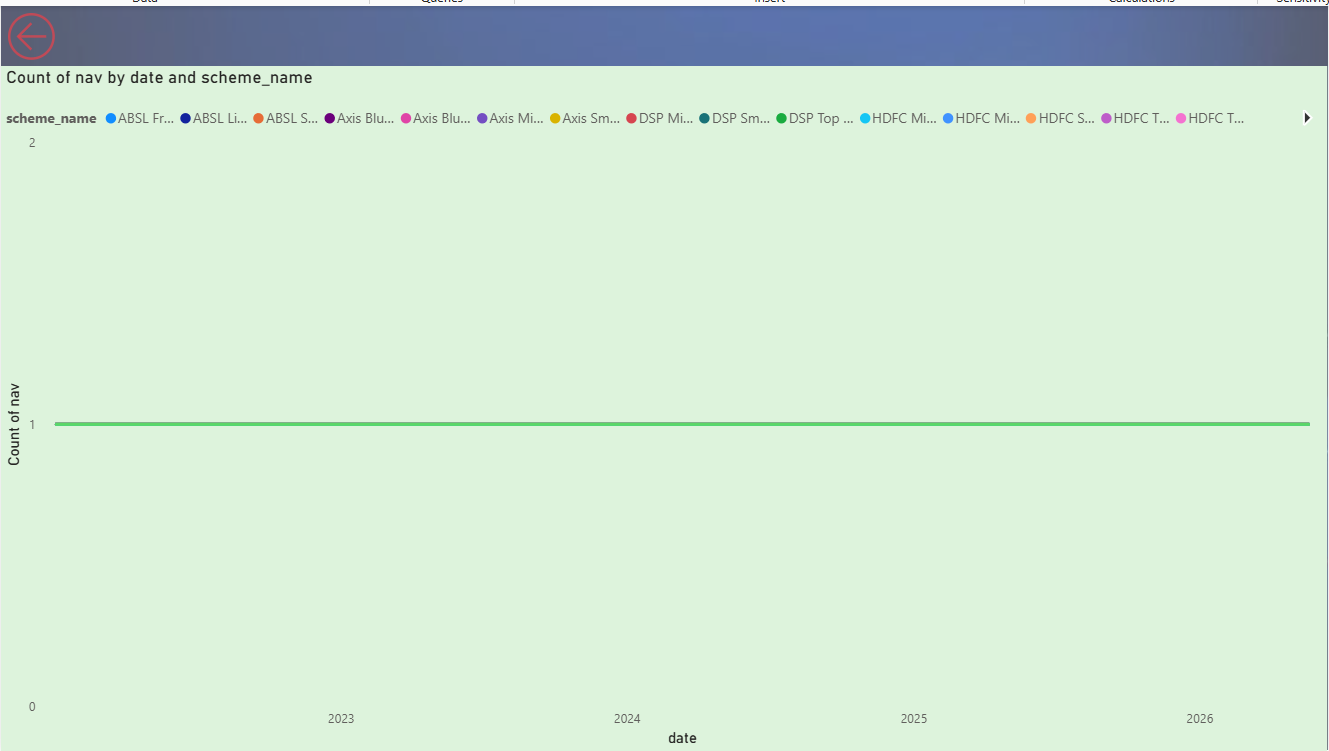

Layout of this report page (visuals, bound fields, positions):
{"tool":"powerbi","page":{"name":"Nav Details","canvas":[1280,720],"ordinal":2},"visuals":[{"type":"actionButton","box":[0,0,108.6,58.7],"z":0},{"type":"lineChart","title":"Count Nav by Category","fields":{"Category":["Nav_History.date"],"Y":["CountNonNull(Nav_History.nav)"],"Series":["Fund_Scorecard.scheme_name"]},"box":[0,58.3,1280,661.3],"z":1000}]}

Visuals, with their boxes on the page's 1280x720 design canvas (x1, y1, x2, y2). These are canvas units, not pixel positions in the 1329x751 screenshot, which may show the page scaled, cropped or inside an application window:
actionButton: detection(0, 0, 109, 59)
"Count Nav by Category" lineChart: detection(0, 58, 1280, 720)
